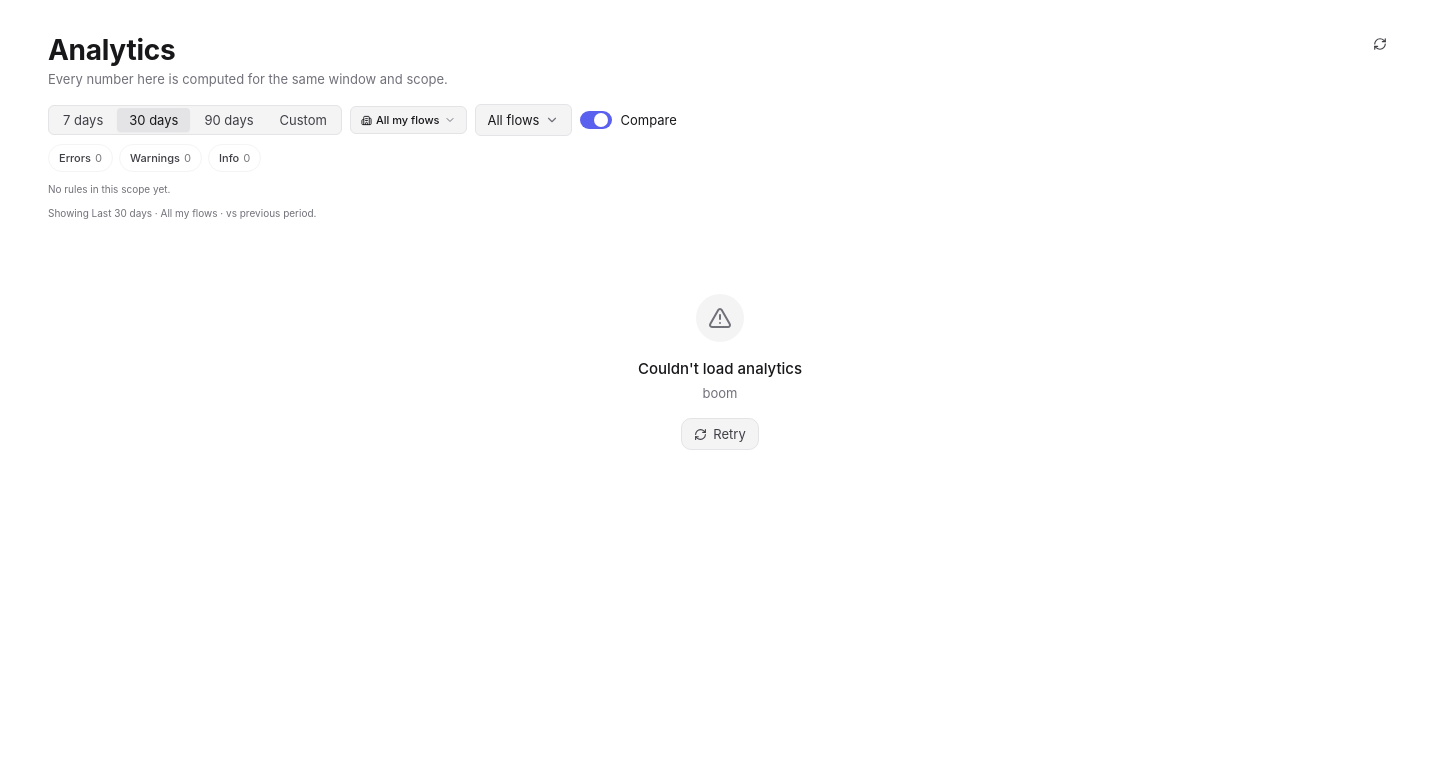
Test case: CloudAnalyticsPage › shows an error state with retry when the first load fails
Expected: the heading "Couldn't load analytics" is shown, [638,358,802,380]
Expected: the text "boom" is shown, [702,384,737,402]
Click the button "Retry". click: (720, 434)
box: [681,418,759,450]
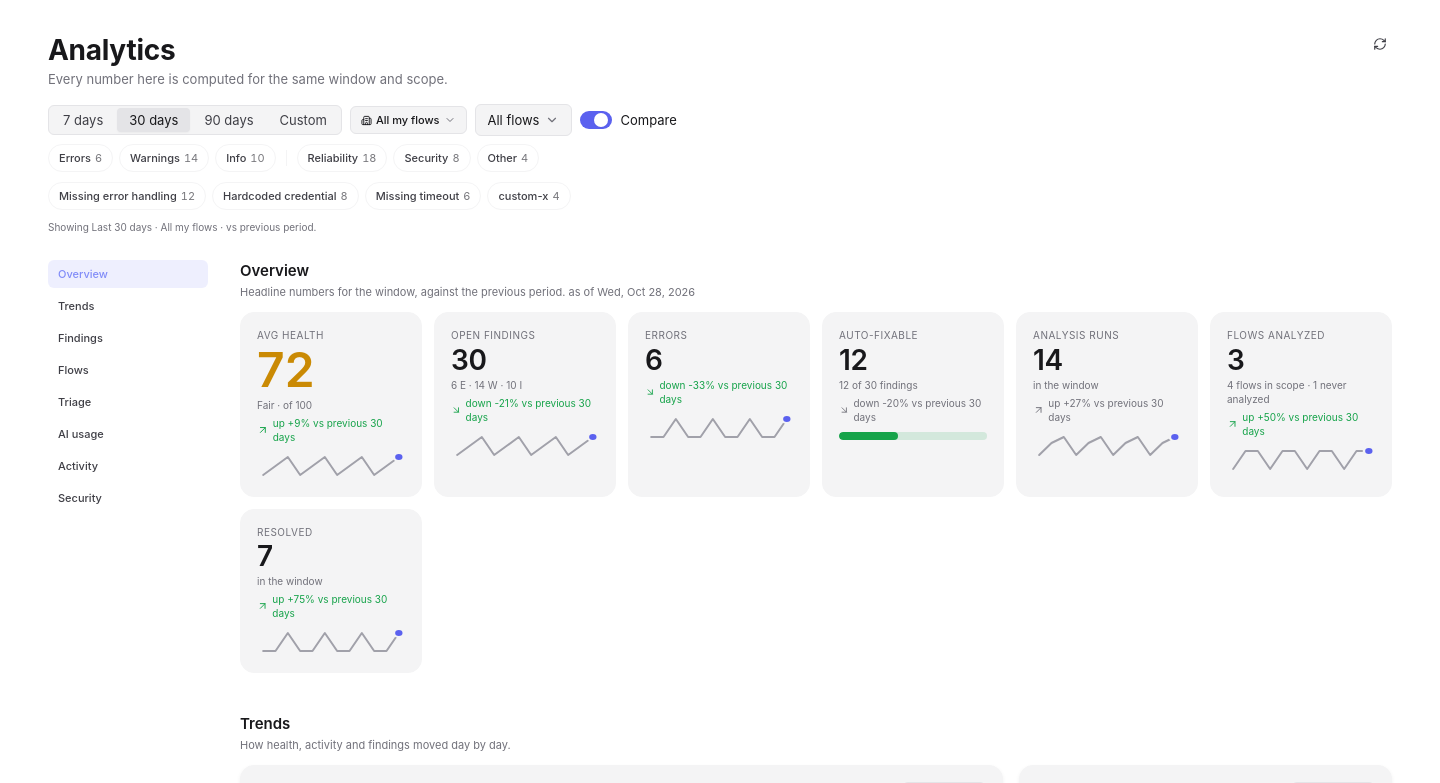
Now the heading "Overview" is shown, box [240,261,309,280]
